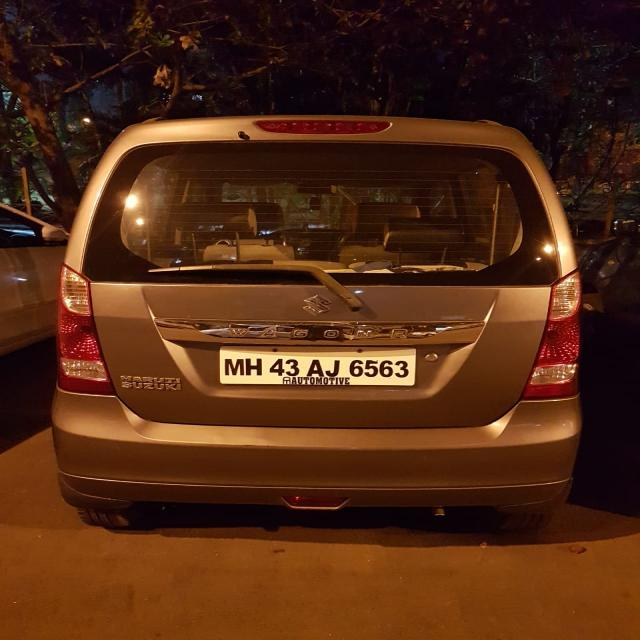Number-Plate: (214, 351, 422, 388)
